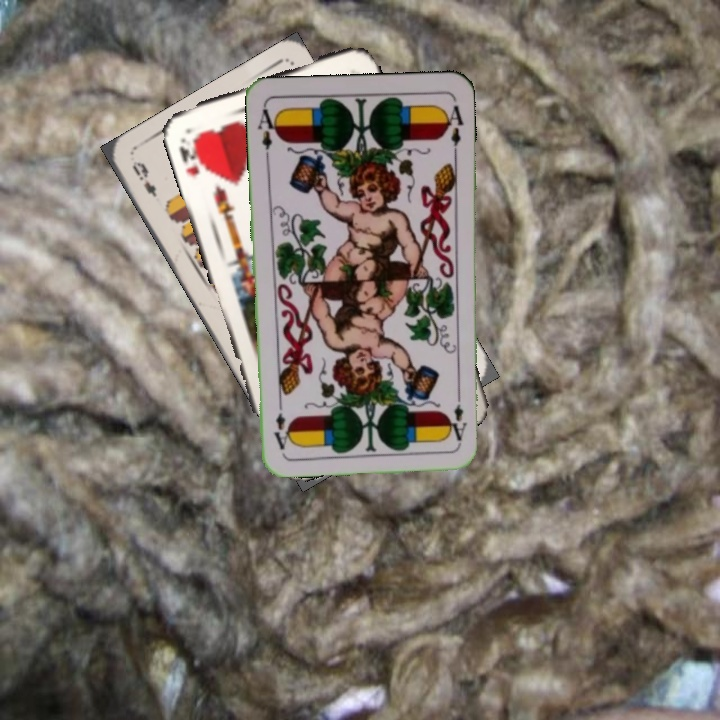E9: (127, 156, 160, 201)
EA: (253, 103, 281, 162), (450, 386, 470, 445)
HK: (175, 133, 209, 180)
